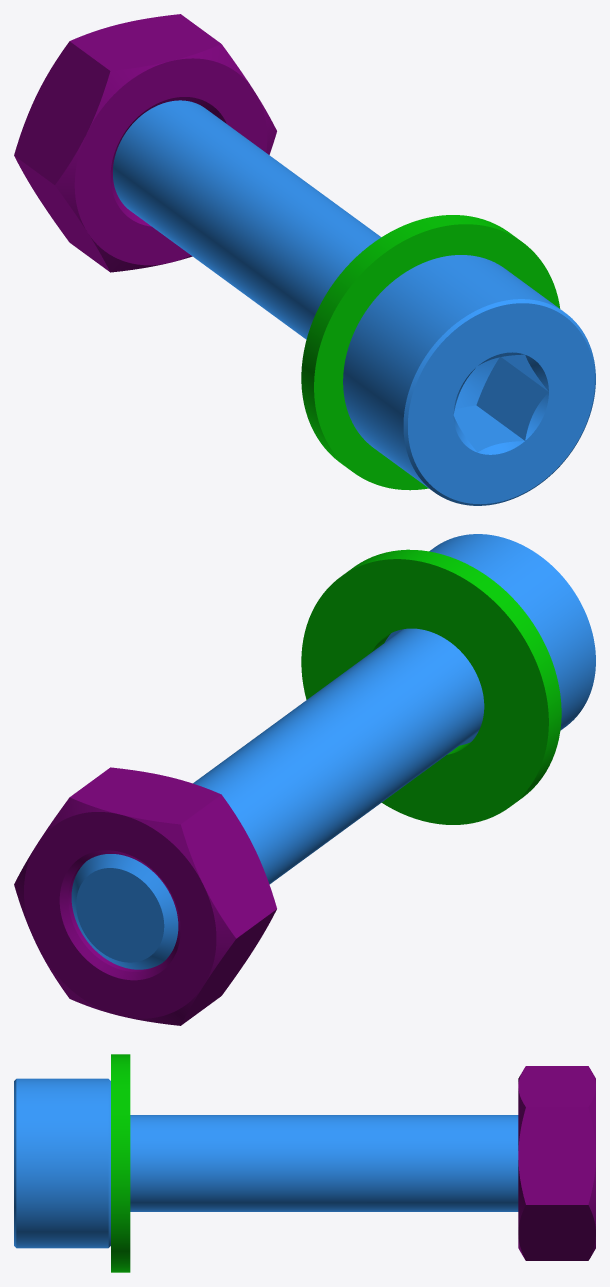
Rendered from assembly.glb.
3 views of the same model, one above another, from view 1: azimuth 30°, elevation 25°; view 2: azimuth 150°, elevation 25°; view 3: azimuth 270°, elevation 25° (orthographic). The views are drawn at different scales.
Parts seen in each view (by area): view 1: screw/ISO4762-M4-20/body, nut/ISO4032-M4/body, washer/ISO7089-M4/body; view 2: screw/ISO4762-M4-20/body, nut/ISO4032-M4/body, washer/ISO7089-M4/body; view 3: screw/ISO4762-M4-20/body, nut/ISO4032-M4/body, washer/ISO7089-M4/body.
Boxes of the visible parts, box(x1,y1,x2,y2) form: screw/ISO4762-M4-20/body: box(113, 100, 595, 505); nut/ISO4032-M4/body: box(14, 14, 276, 272); washer/ISO7089-M4/body: box(301, 215, 560, 490); screw/ISO4762-M4-20/body: box(71, 534, 595, 969); nut/ISO4032-M4/body: box(14, 767, 276, 1025); washer/ISO7089-M4/body: box(301, 549, 561, 824); screw/ISO4762-M4-20/body: box(14, 1078, 518, 1248); nut/ISO4032-M4/body: box(518, 1066, 595, 1260); washer/ISO7089-M4/body: box(111, 1054, 130, 1272).
Size of the model in its own units: 0.009 by 0.009 by 0.024.
